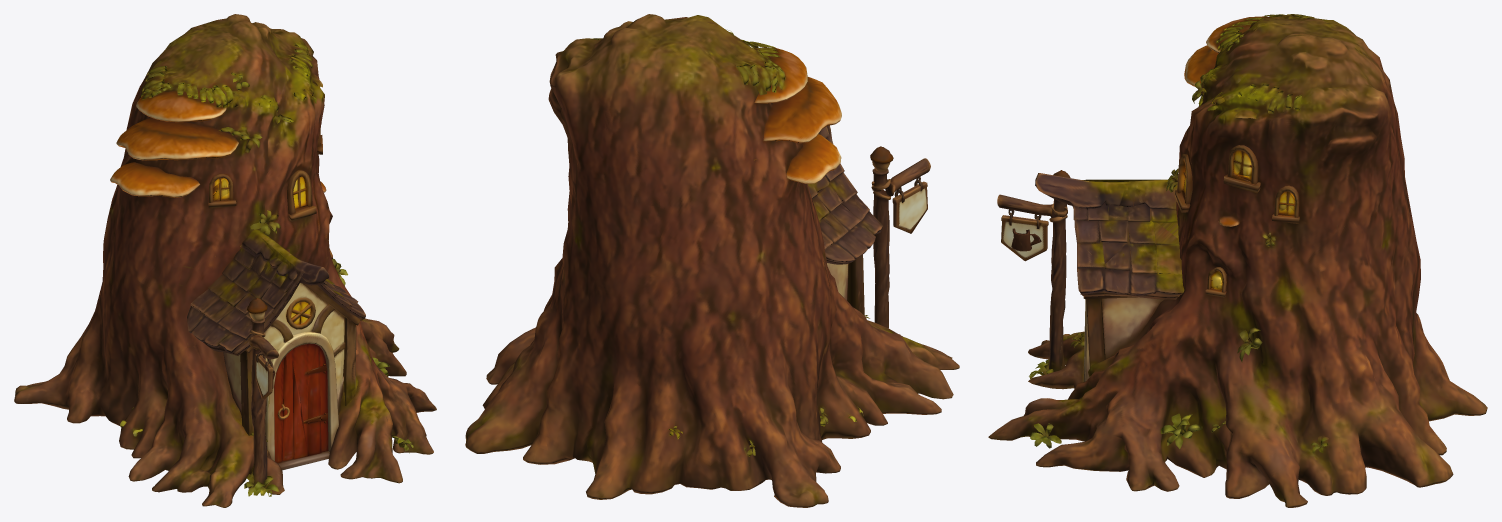
The model's file is inn.glb.
The picture shows the model from 3 angles, left to right: view 1: azimuth 30°, elevation 25°; view 2: azimuth 150°, elevation 25°; view 3: azimuth 270°, elevation 25°; orthographic projection. The views are drawn at different scales.
Visible parts, largest first — view 1: geometry_0; view 2: geometry_0; view 3: geometry_0.
Part boxes in pixels (bbox=[...]): geometry_0: bbox=[14, 14, 436, 507]; geometry_0: bbox=[465, 14, 959, 507]; geometry_0: bbox=[988, 14, 1487, 507].
Bounding box in the file's own units: 0.834 × 0.8364 × 0.9551.
Materials: 1 (1 with a texture image).
